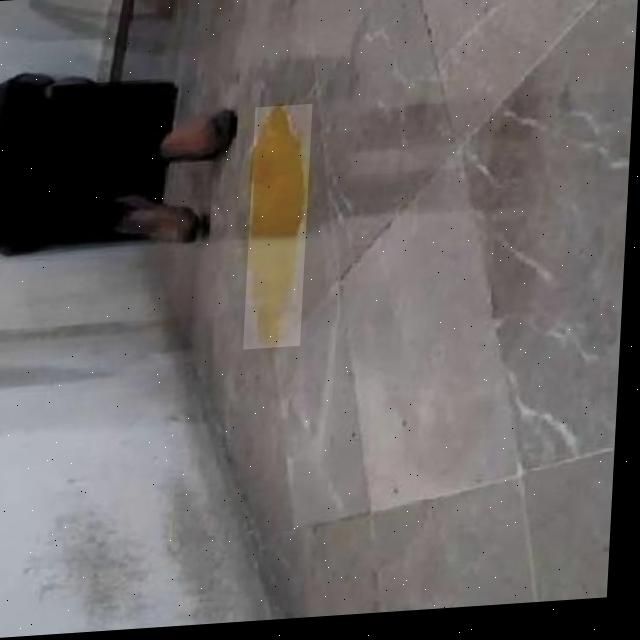spillage: (251, 110, 310, 350)
